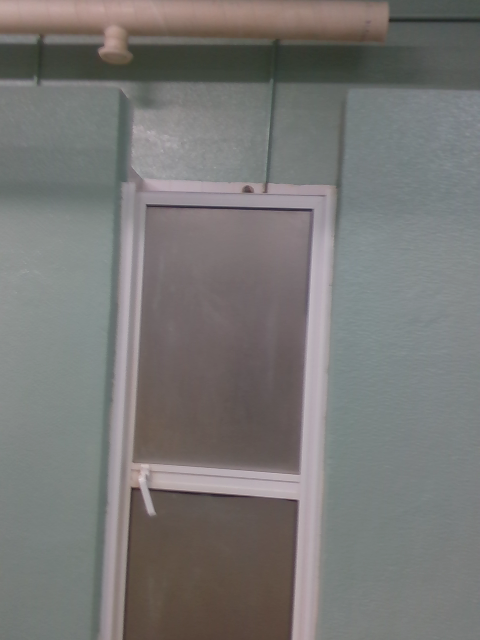closed: (99, 183, 338, 639)
